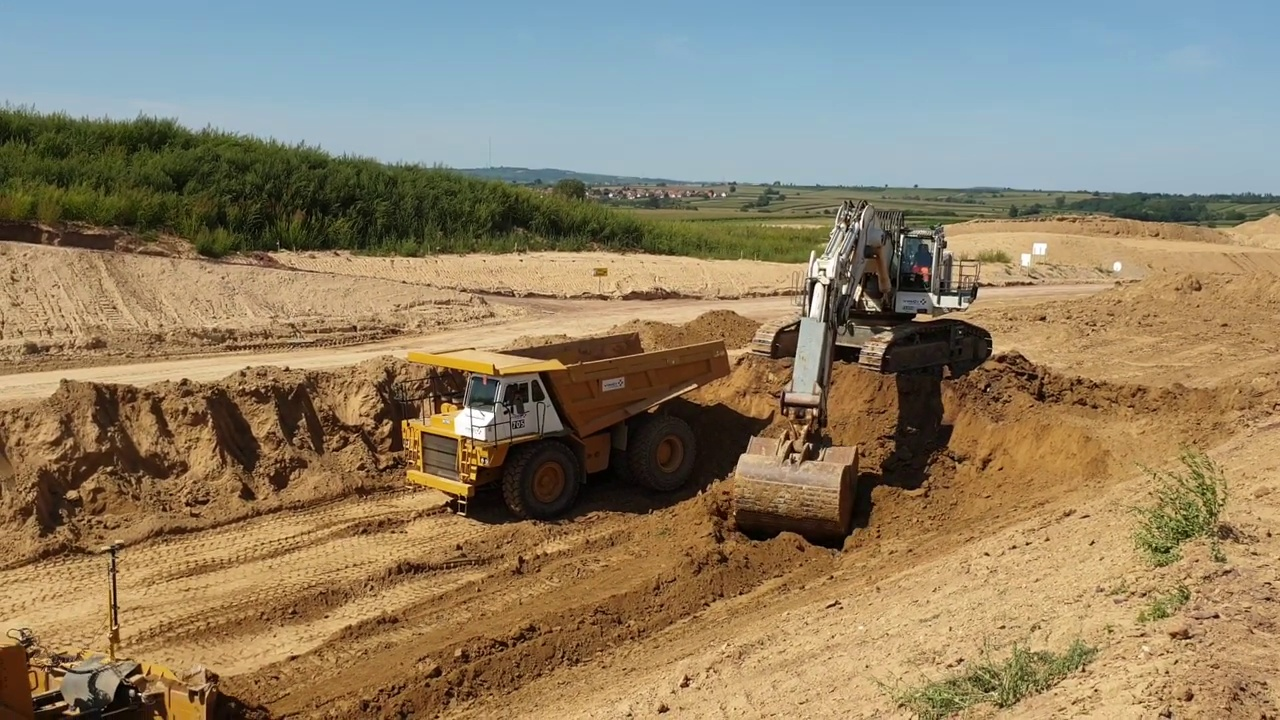bulldozer: (4, 531, 262, 720)
excavator: (732, 199, 997, 557)
truck: (383, 324, 735, 531)
